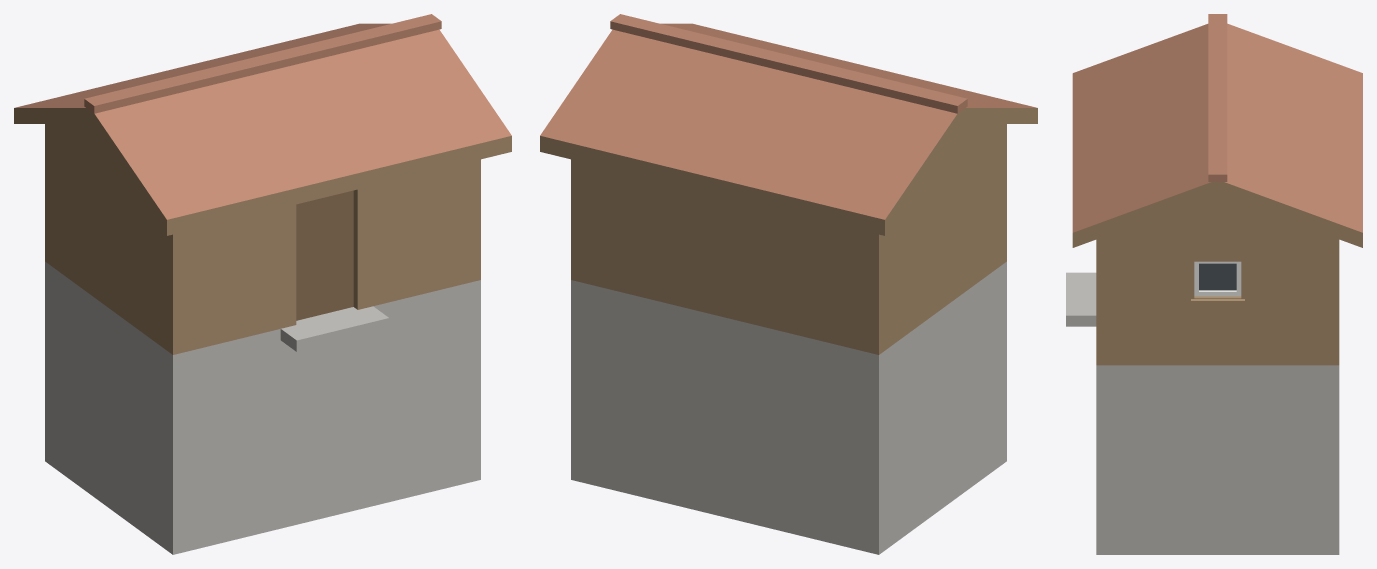
The model's file is shed_m.glb.
3 views of the same model, side by side, from view 1: azimuth 30°, elevation 25°; view 2: azimuth 150°, elevation 25°; view 3: azimuth 270°, elevation 25° (orthographic). The views are drawn at different scales.
Visible parts, largest first — view 1: shed_m; view 2: shed_m; view 3: shed_m.
Part boxes in pixels (bbox=[...]): shed_m: bbox=[14, 14, 511, 554]; shed_m: bbox=[540, 14, 1037, 554]; shed_m: bbox=[1066, 14, 1362, 554].
Size of the model in its own units: 5.64 by 6.37 by 4.4.
